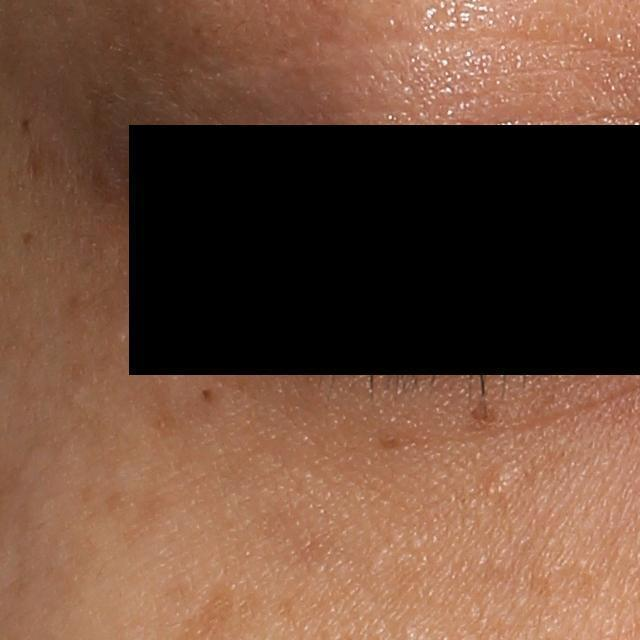comedo: (487, 467, 517, 494)
melasma: (469, 392, 493, 425), (377, 427, 404, 449)
nevus: (13, 116, 32, 138), (200, 387, 213, 401)
